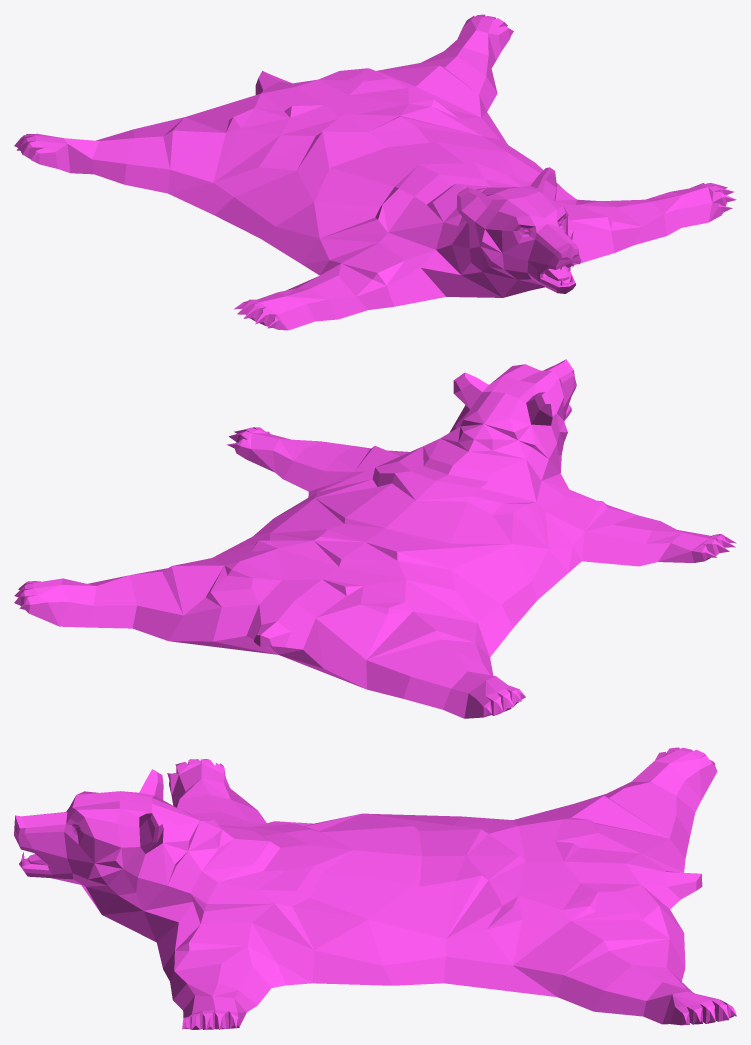
The model's file is SM_Rug_Bear_Fantasy.fbx.
The picture shows the model from 3 angles, top to bottom: view 1: azimuth 30°, elevation 25°; view 2: azimuth 150°, elevation 25°; view 3: azimuth 270°, elevation 25°; orthographic projection. The views are drawn at different scales.
Visible parts, largest first — view 1: SM_Rug_Bear_Fantasy; view 2: SM_Rug_Bear_Fantasy; view 3: SM_Rug_Bear_Fantasy.
Boxes of the visible parts, x1,y1,x2,y2 form: SM_Rug_Bear_Fantasy: (14,14,736,330); SM_Rug_Bear_Fantasy: (14,359,736,718); SM_Rug_Bear_Fantasy: (14,747,736,1029).
Bounding box in the file's own units: 2.5 × 0.5248 × 2.8.
